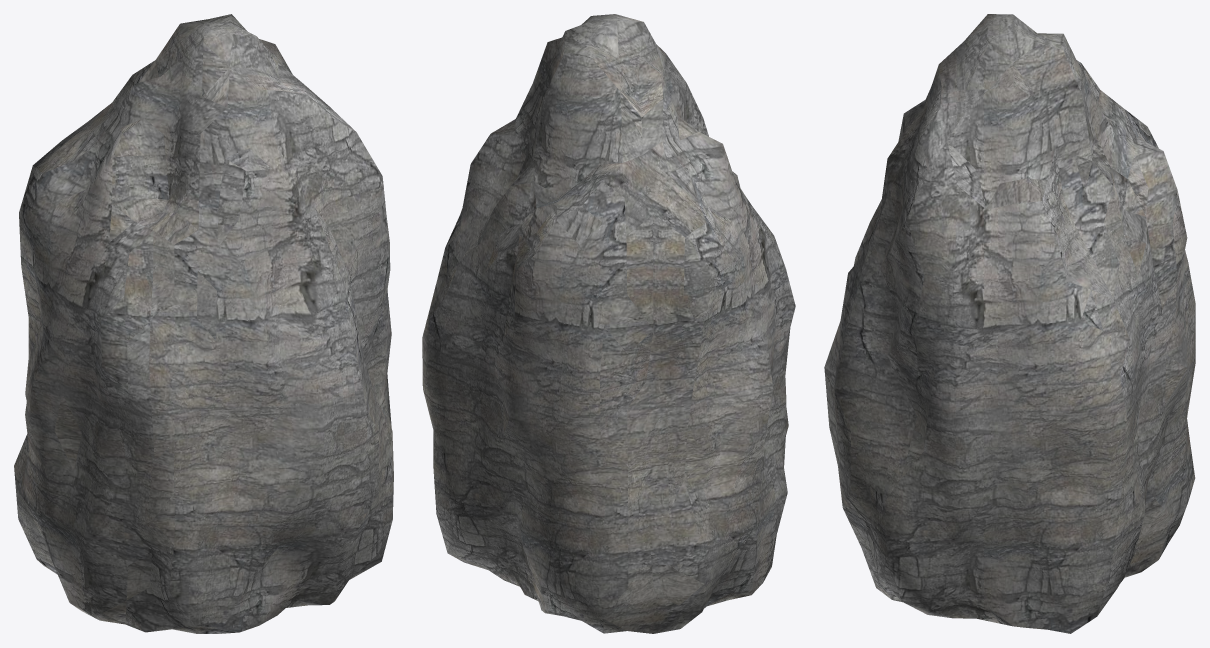
Rendered from rock_tall.glb.
The picture shows the model from 3 angles, left to right: view 1: azimuth 30°, elevation 25°; view 2: azimuth 150°, elevation 25°; view 3: azimuth 270°, elevation 25°; orthographic projection.
Parts seen in each view (by area): view 1: rock_tall; view 2: rock_tall; view 3: rock_tall.
Part boxes in pixels (x1,y1,x2,y2): rock_tall: (14,14,393,633); rock_tall: (422,14,795,633); rock_tall: (824,14,1195,633).
Bounding box in the file's own units: 1.65 × 2.7 × 1.64.
Materials: 1 (1 with a texture image).
